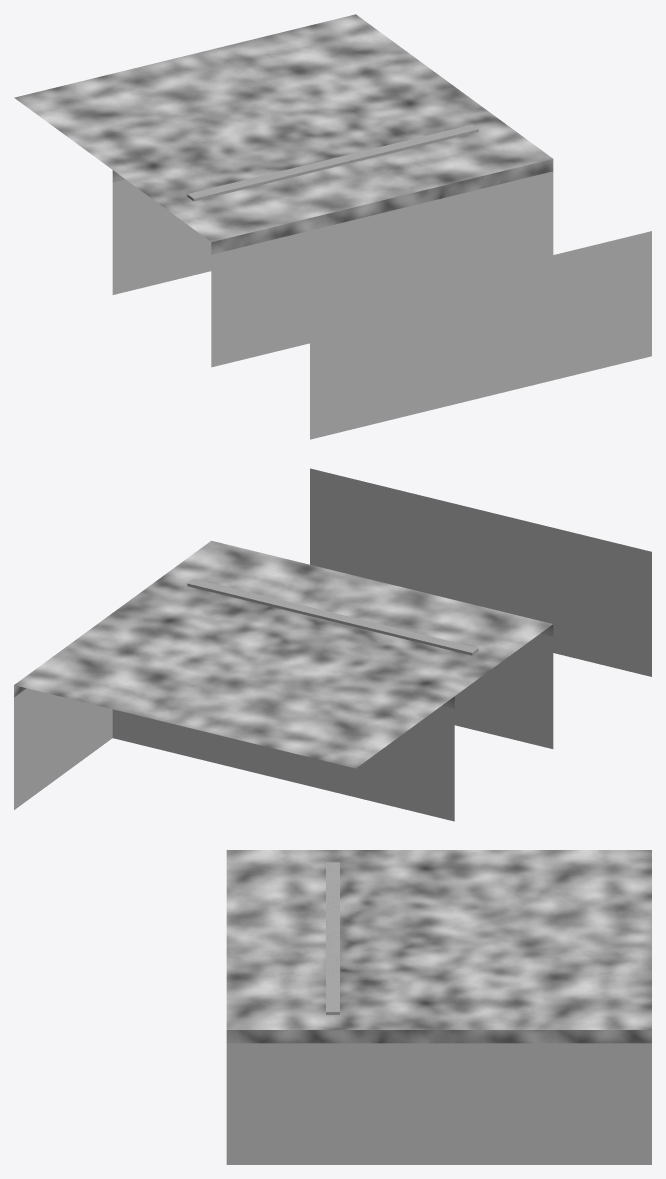
Rendered from RoadSecond.fbx.
3 renders of one model, top to bottom at view 1: azimuth 30°, elevation 25°; view 2: azimuth 150°, elevation 25°; view 3: azimuth 270°, elevation 25°, orthographic. The views are drawn at different scales.
Visible parts, largest first — view 1: Plane; view 2: Plane; view 3: Plane.
Boxes of the visible parts, <box> form: Plane: <box>14,14,651,439</box>; Plane: <box>14,468,651,821</box>; Plane: <box>226,850,651,1164</box>.
Bounding box in the file's own units: 400 × 143 × 600.
